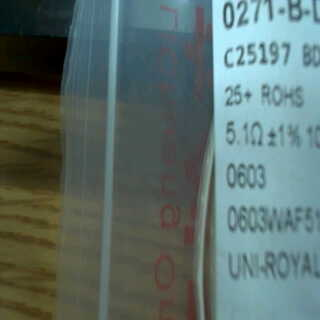5.1R: (218, 115, 269, 151)
